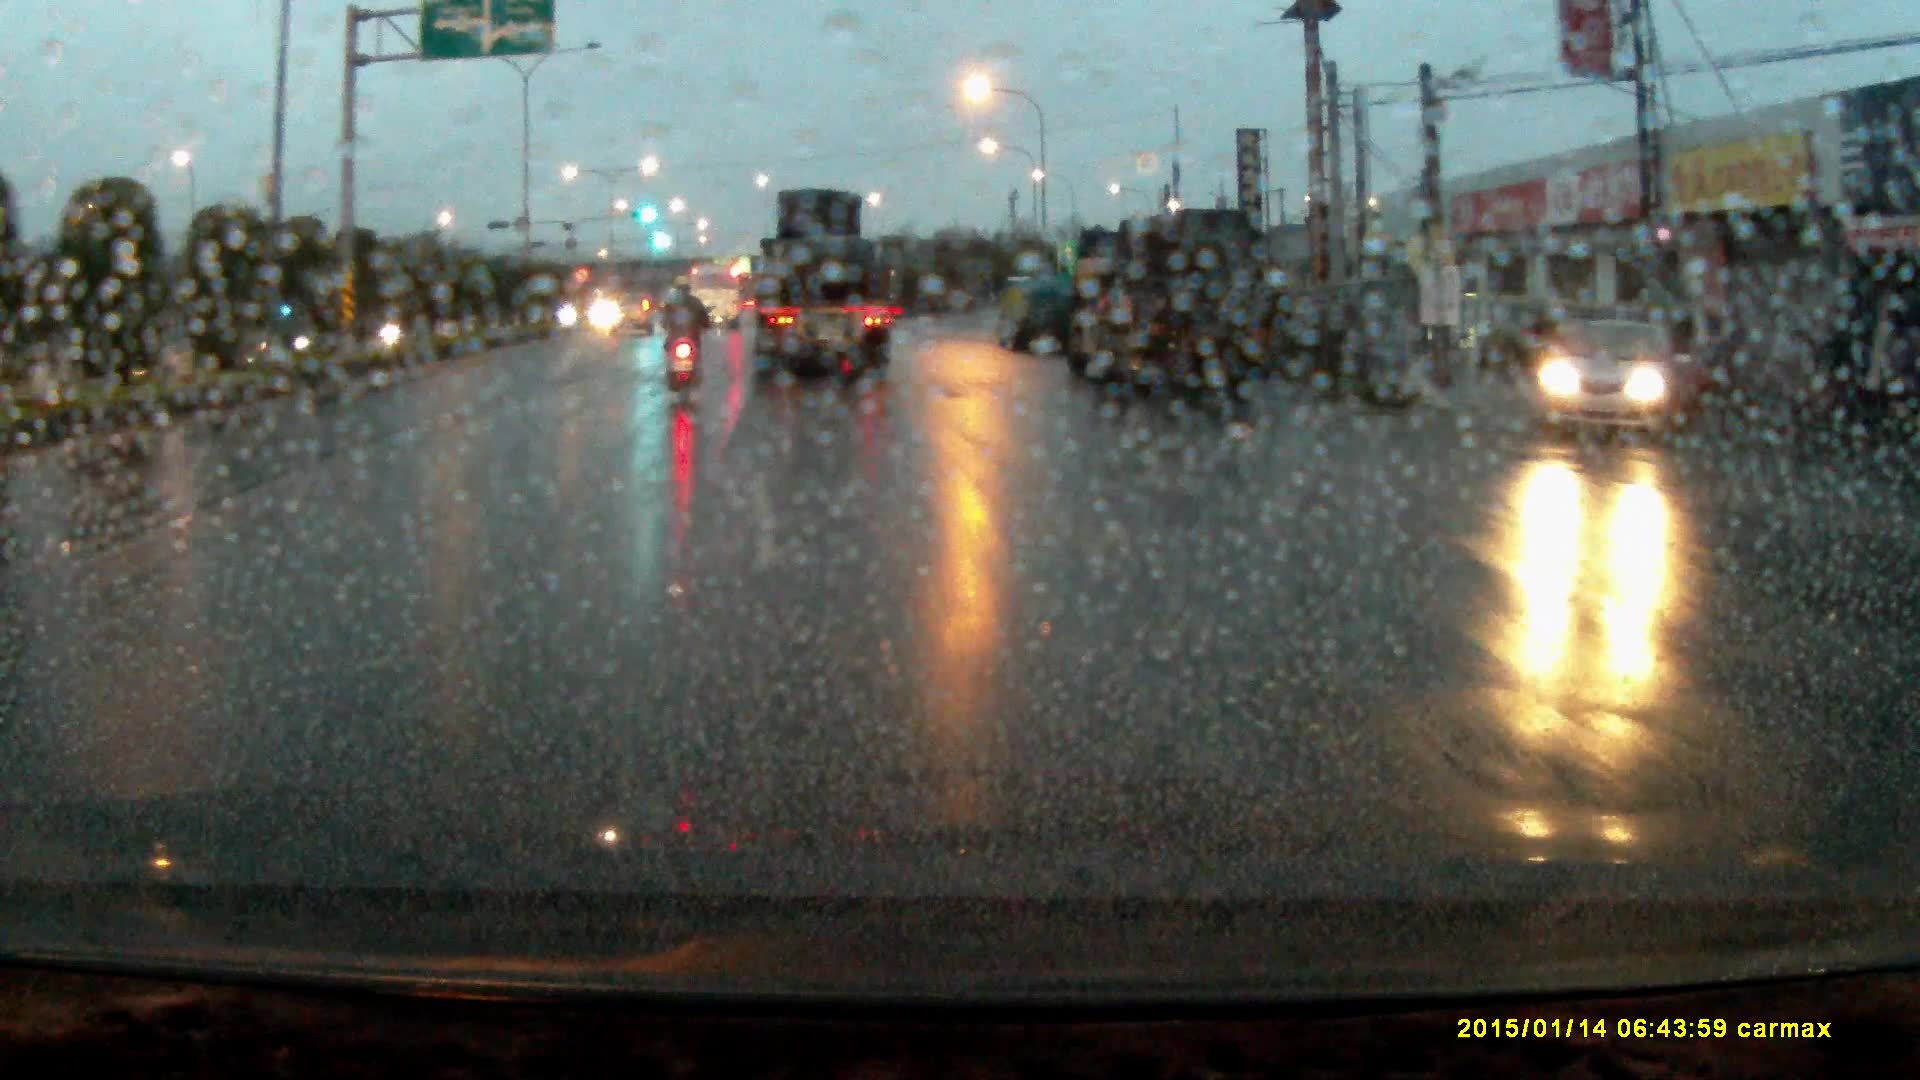rider: (657, 271, 714, 406)
vehicle: (1068, 201, 1278, 407), (753, 191, 892, 384), (1532, 311, 1719, 445), (1000, 274, 1081, 354), (692, 264, 741, 328), (602, 288, 655, 337)
